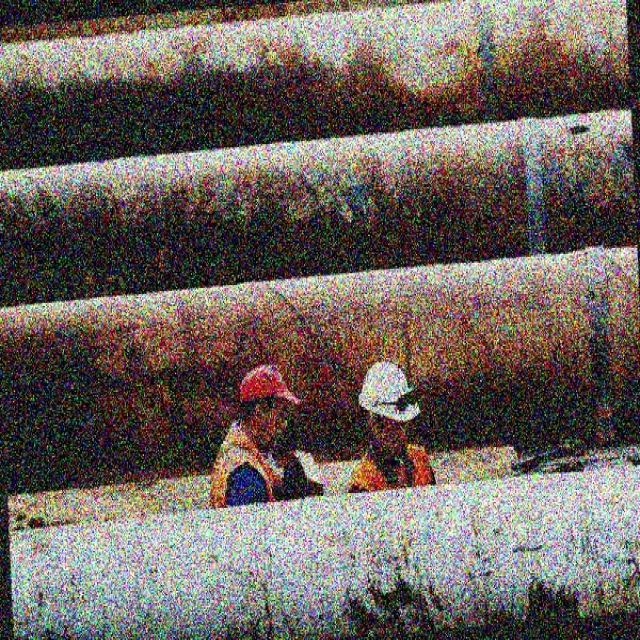rust: (0, 271, 639, 494), (0, 105, 636, 296), (0, 28, 630, 167)
